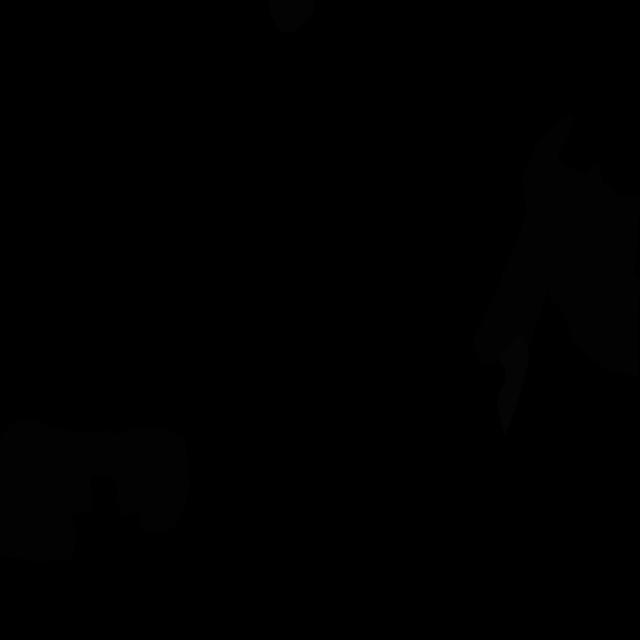cardboard: (522, 114, 640, 377), (0, 417, 190, 562), (472, 216, 548, 364)
metal: (268, 0, 315, 33)
soft_plastic: (496, 333, 529, 437)
